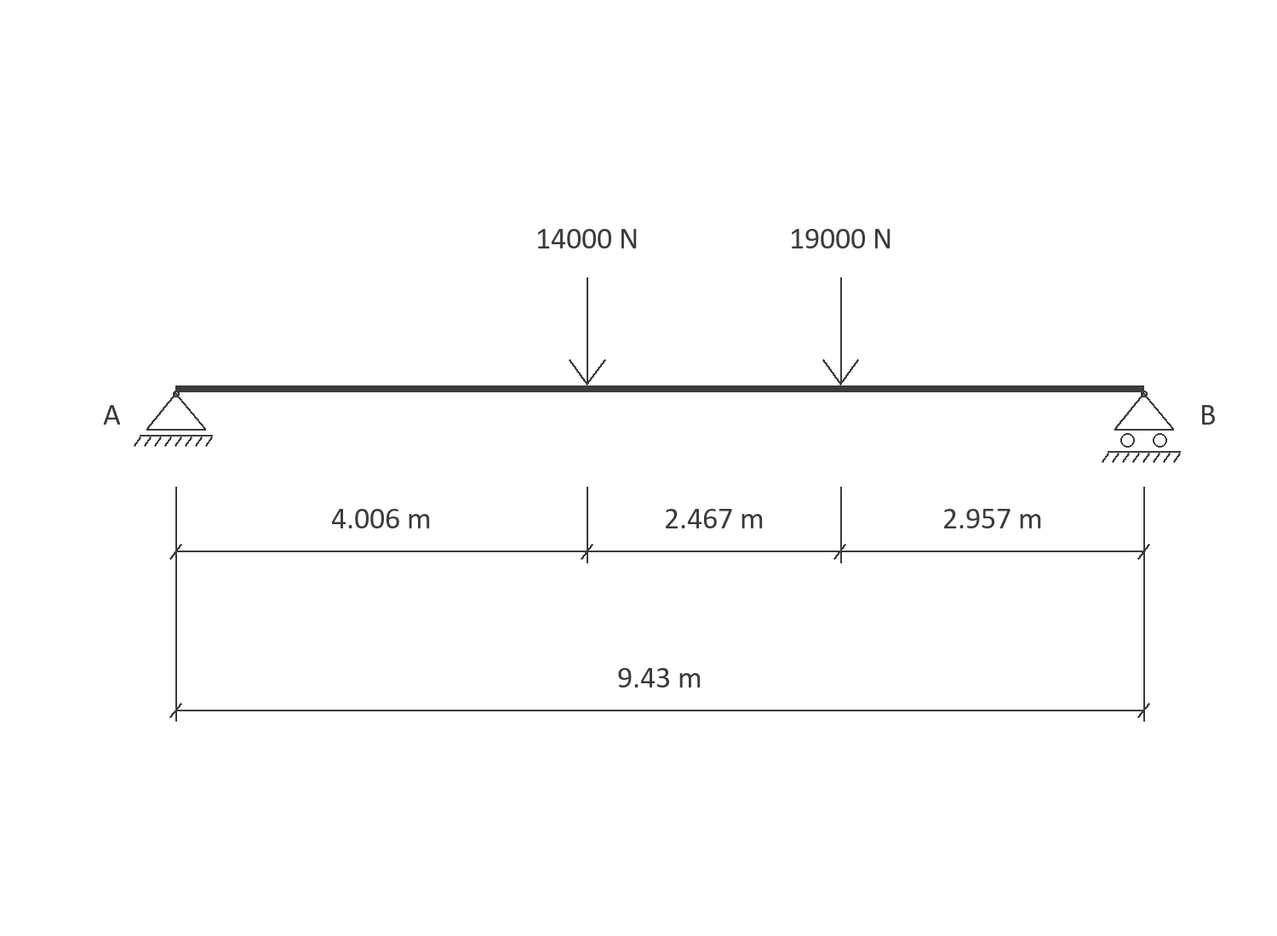pin_support: (134, 391, 213, 447)
point_load: (569, 277, 606, 385), (822, 277, 859, 385)
roller_support: (1102, 391, 1181, 463)
